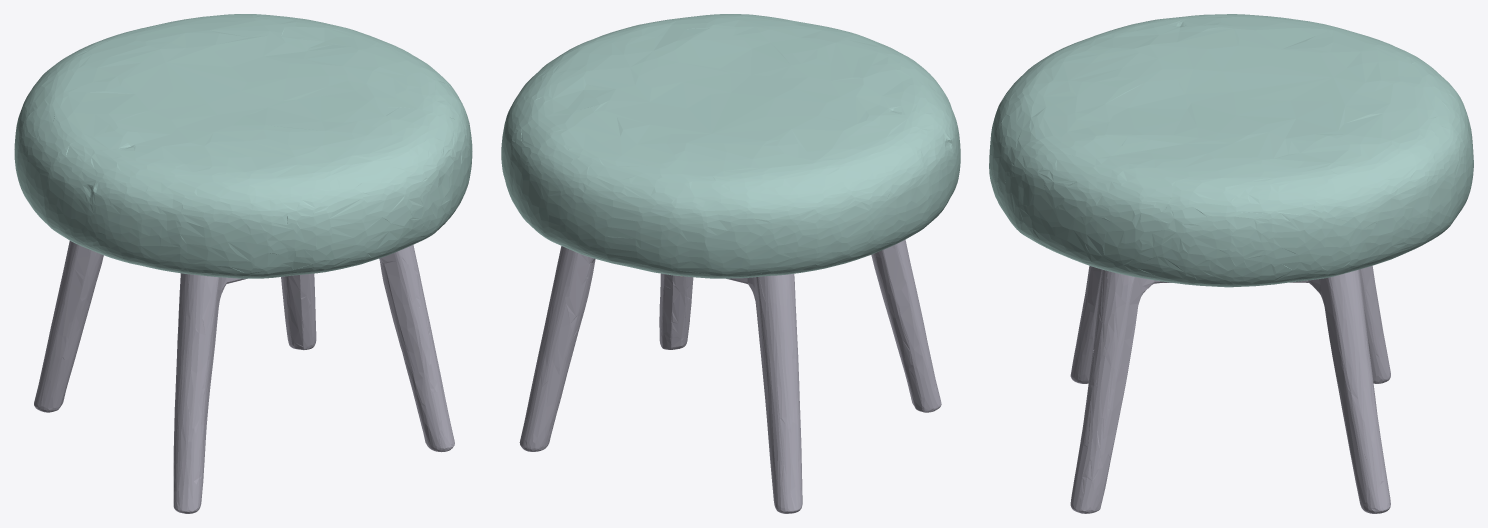
File: RXn-fbD7dKYA4wA159TIK.glb
3 views of the same model, side by side, from view 1: azimuth 30°, elevation 25°; view 2: azimuth 150°, elevation 25°; view 3: azimuth 270°, elevation 25° (orthographic). The views are drawn at different scales.
Parts seen in each view (by area): view 1: geometry_0; view 2: geometry_0; view 3: geometry_0.
Part boxes in pixels (bbox=[...]): geometry_0: bbox=[14, 14, 472, 513]; geometry_0: bbox=[501, 14, 960, 513]; geometry_0: bbox=[989, 14, 1473, 513].
Size of the model in its own units: 1.87 by 1.52 by 1.89.
